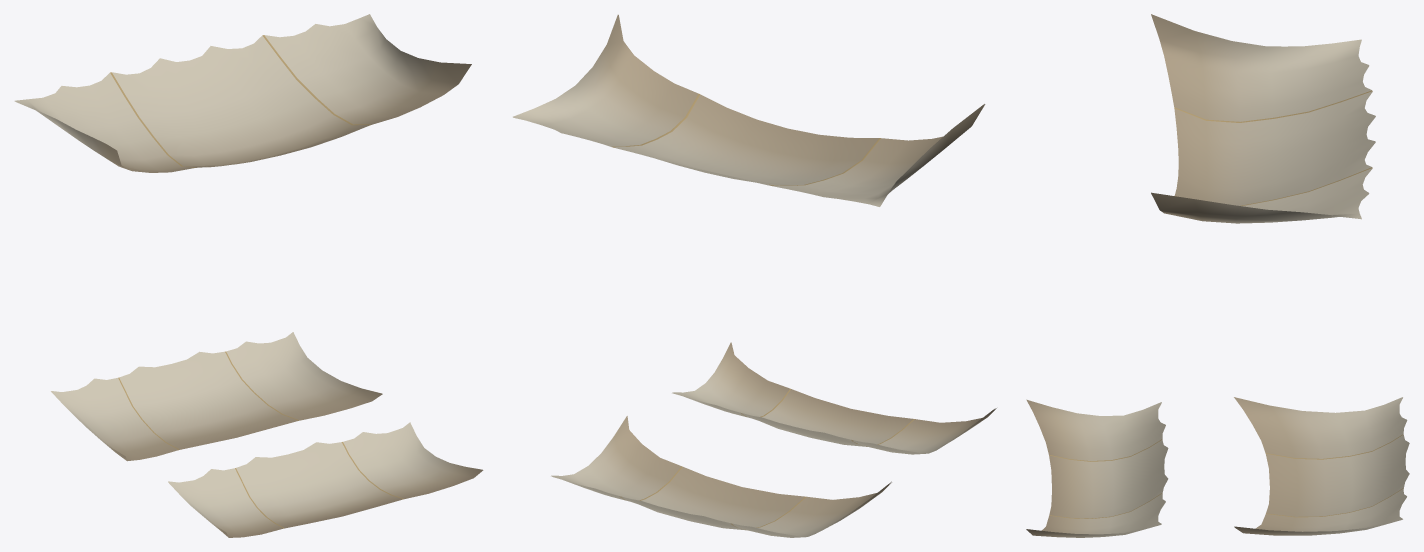
File: MigratorFlags.fbx
The picture shows the model from 3 angles, left to right: view 1: azimuth 30°, elevation 25°; view 2: azimuth 150°, elevation 25°; view 3: azimuth 270°, elevation 25°; orthographic projection. The views are drawn at different scales.
Parts seen in each view (by area): view 1: polySurface4; view 2: polySurface4; view 3: polySurface4.
Boxes of the visible parts, x1,y1,x2,y2 form: polySurface4: [14, 14, 483, 537]; polySurface4: [513, 14, 996, 537]; polySurface4: [1026, 14, 1409, 537].
Bounding box in the file's own units: 1108 × 1135 × 1002.
